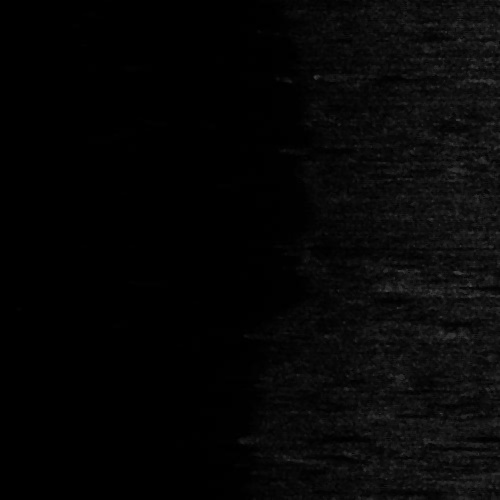object: (389, 282, 494, 297), (464, 463, 500, 480), (453, 74, 500, 81)
shadow: (441, 282, 500, 297), (485, 74, 500, 81)
